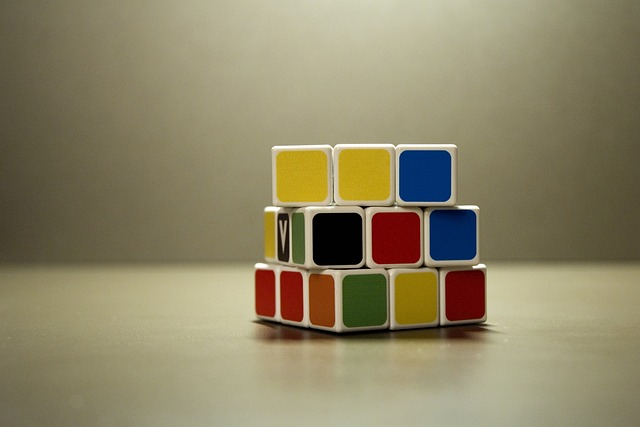cube: (252, 143, 489, 339)
